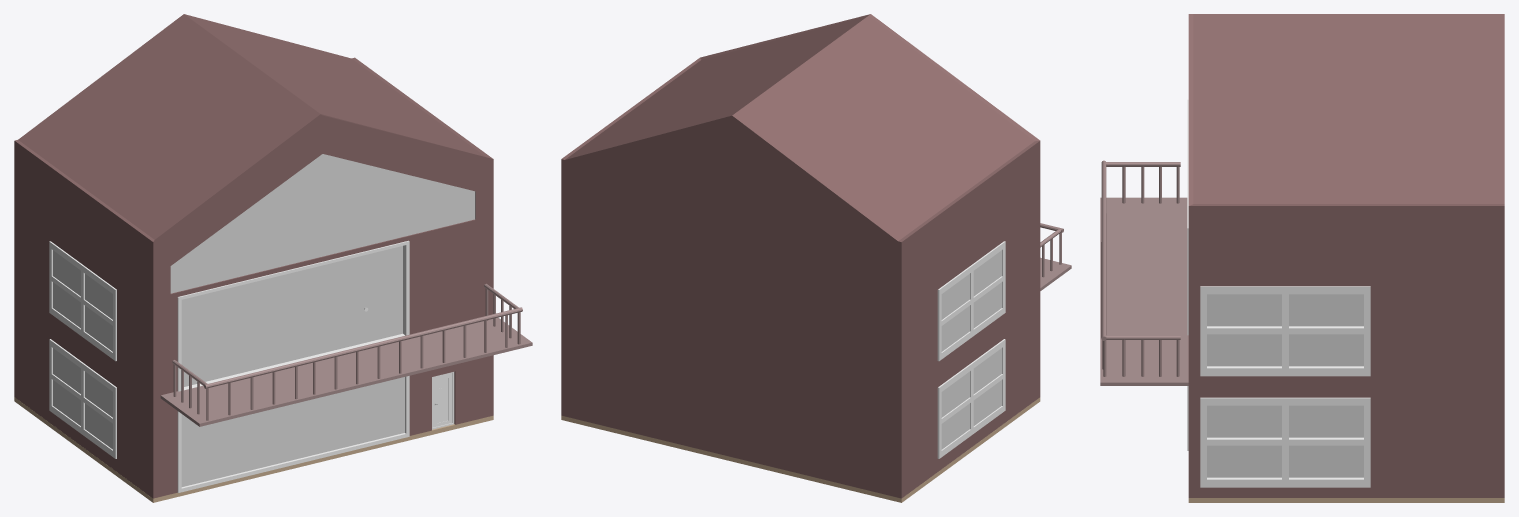
The model's file is Cafe_3.fbx.
3 views of the same model, side by side, from view 1: azimuth 30°, elevation 25°; view 2: azimuth 150°, elevation 25°; view 3: azimuth 270°, elevation 25° (orthographic). The views are drawn at different scales.
Parts seen in each view (by area): view 1: Cafe_3_Body, Cafe_3_Window.003, Cafe_3_Window.001, Cafe_3_Window.007, Cafe_3_Window, Cafe_3_Window.004, Cafe_3_Window.006, House_3_Door; view 2: Cafe_3_Body, Cafe_3_Window.004, Cafe_3_Window.006; view 3: Cafe_3_Body, Cafe_3_Window.005, Cafe_3_Window.002.
Part boxes in pixels (bbox=[...]): Cafe_3_Body: bbox=[14, 14, 532, 502]; Cafe_3_Window.003: bbox=[170, 154, 475, 293]; Cafe_3_Window.001: bbox=[181, 257, 357, 386]; Cafe_3_Window.007: bbox=[181, 377, 404, 486]; Cafe_3_Window: bbox=[358, 246, 402, 344]; Cafe_3_Window.004: bbox=[51, 348, 114, 449]; Cafe_3_Window.006: bbox=[51, 250, 114, 351]; House_3_Door: bbox=[432, 372, 454, 429]; Cafe_3_Body: bbox=[561, 14, 1071, 502]; Cafe_3_Window.004: bbox=[941, 348, 1004, 449]; Cafe_3_Window.006: bbox=[941, 250, 1004, 351]; Cafe_3_Body: bbox=[1100, 14, 1504, 502]; Cafe_3_Window.005: bbox=[1203, 294, 1367, 368]; Cafe_3_Window.002: bbox=[1207, 405, 1363, 479].
Bounding box in the file's own units: 1475 × 1422 × 1324.
